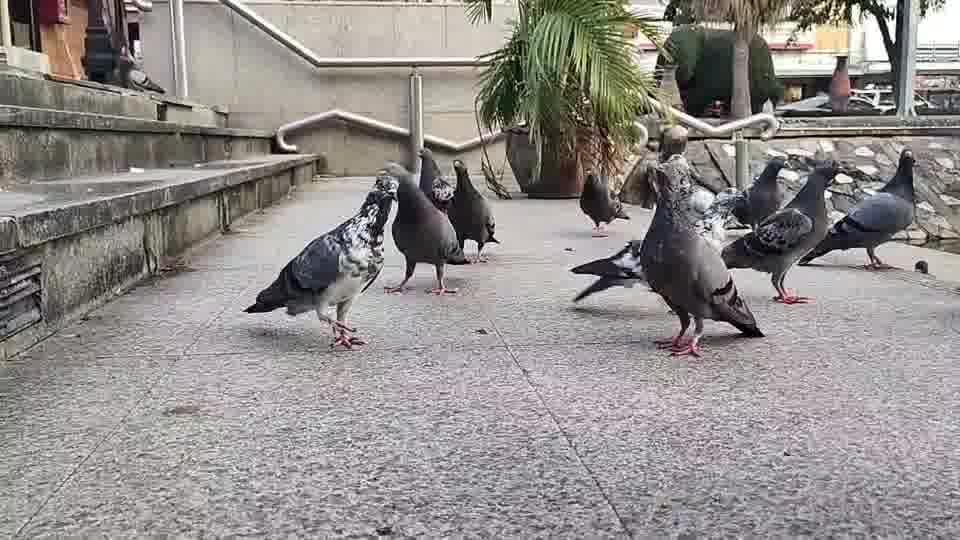Pigeon: (241, 174, 399, 351), (637, 153, 765, 357), (719, 159, 842, 304), (796, 147, 919, 270), (376, 158, 470, 296), (714, 155, 797, 230), (446, 158, 500, 263), (568, 239, 644, 304), (578, 170, 630, 237), (416, 147, 454, 213)
